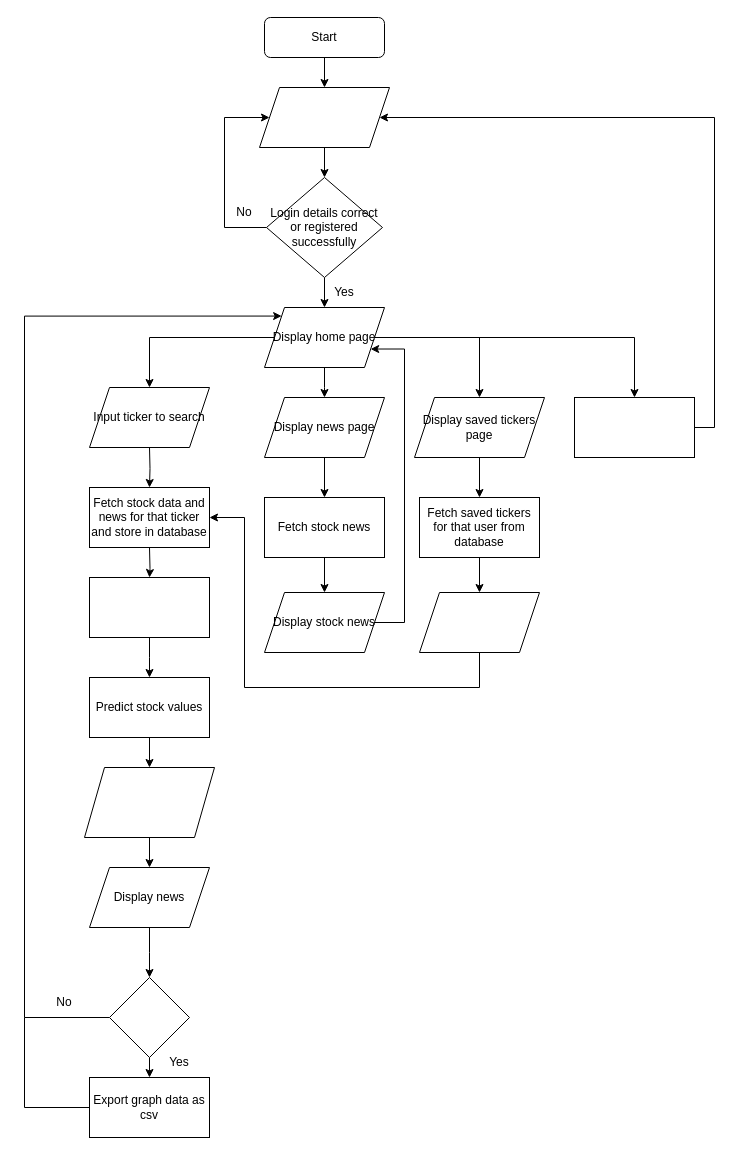
Some shapes in this 740 by 1155 pixel diagram are drawn without their labels. The shapes that lost their labels are listed below. From the top down, each one's centre as x and y in pixels, then its label:
At point (324, 117): "Display login screen".
At point (634, 427): "Sign out".
At point (149, 607): "Create and train machine learning model".
At point (479, 622): "Display list of saved tickers".
At point (149, 802): "Plot historical stock data and predicted values on graph".
At point (149, 1017): "Save to csv".
